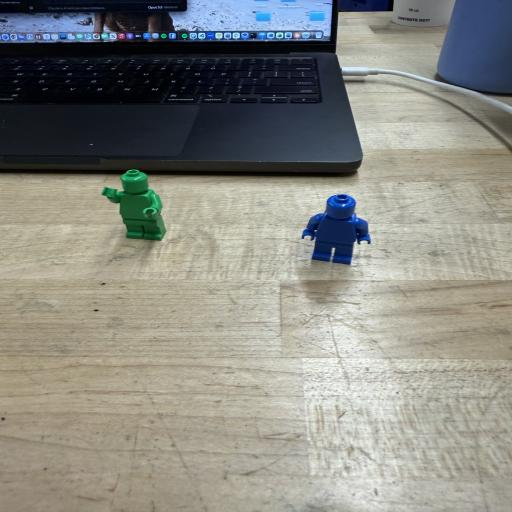blue-minifig: (326, 194, 356, 219)
green-minifig: (102, 170, 166, 241)
